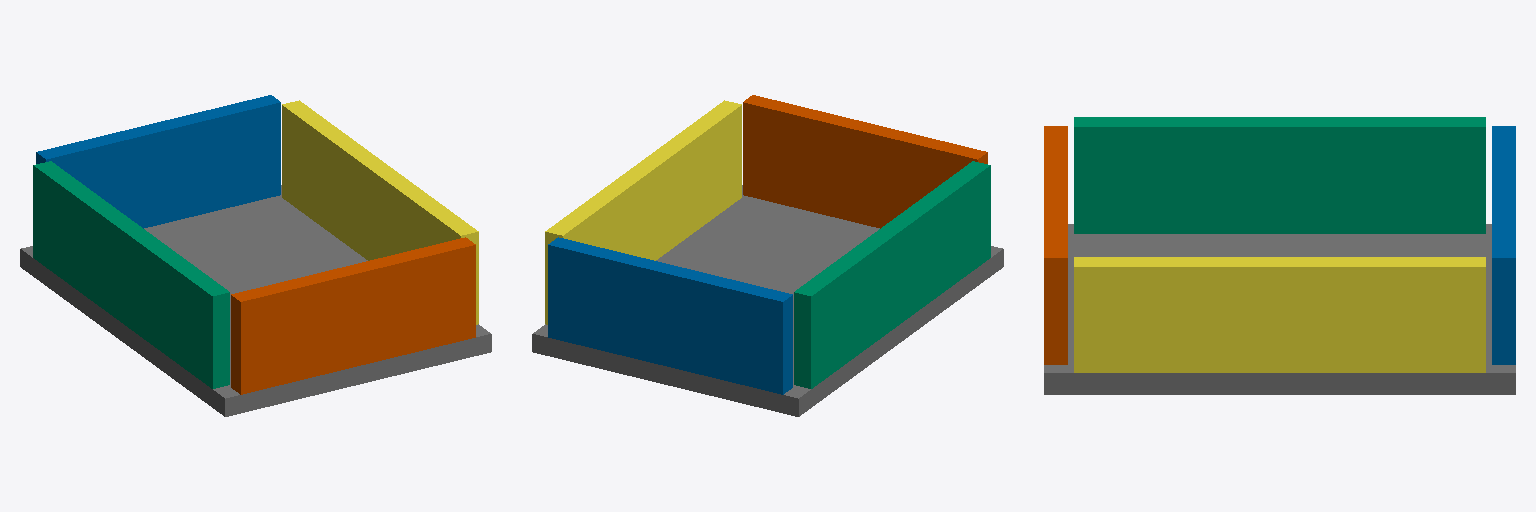
robot.urdf — picking_bin:
<?xml version="1.0"?>
<robot name="picking_bin">
  <!-- We make the base link a dummy link to anchor everything -->
  <link name="bin_base_footprint"/>

  <!-- Floor of the bin -->
  <link name="bin_bottom">
    <inertial>
      <mass value="1.0"/>
      <inertia ixx="0.01" ixy="0.0" ixz="0.0" iyy="0.01" iyz="0.0" izz="0.01"/>
    </inertial>
    <visual>
      <geometry><box size="0.4 0.3 0.02"/></geometry>
      <material name="grey"><color rgba="0.5 0.5 0.5 1"/></material>
    </visual>
    <collision>
      <geometry><box size="0.4 0.3 0.02"/></geometry>
    </collision>
  </link>

  <!-- Left Wall -->
  <link name="wall_left">
    <visual><geometry><box size="0.35 0.02 0.1"/></geometry></visual>
    <collision><geometry><box size="0.35 0.02 0.1"/></geometry></collision>
  </link>

  <!-- Right Wall -->
  <link name="wall_right">
    <visual><geometry><box size="0.35 0.02 0.1"/></geometry></visual>
    <collision><geometry><box size="0.35 0.02 0.1"/></geometry></collision>
  </link>

  <!-- Front Wall -->
  <link name="wall_front">
    <visual><geometry><box size="0.02 0.265 0.1"/></geometry></visual>
    <collision><geometry><box size="0.02 0.265 0.1"/></geometry></collision>
  </link>

  <!-- Back Wall -->
  <link name="wall_back">
    <visual><geometry><box size="0.02 0.265 0.1"/></geometry></visual>
    <collision><geometry><box size="0.02 0.265 0.1"/></geometry></collision>
  </link>

  <!-- JOINTS -->
  <joint name="base_to_bottom" type="fixed">
    <parent link="bin_base_footprint"/>
    <child link="bin_bottom"/>
    <origin xyz="0 0 0.01" rpy="0 0 1.5708"/>
  </joint>

  <joint name="bottom_to_left" type="fixed">
    <parent link="bin_bottom"/>
    <child link="wall_left"/>
    <origin xyz="0 0.14 0.06" rpy="0 0 0"/>
  </joint>

  <joint name="bottom_to_right" type="fixed">
    <parent link="bin_bottom"/>
    <child link="wall_right"/>
    <origin xyz="0 -0.14 0.06" rpy="0 0 0"/>
  </joint>

  <joint name="bottom_to_front" type="fixed">
    <parent link="bin_bottom"/>
    <child link="wall_front"/>
    <origin xyz="0.19 0 0.06" rpy="0 0 0"/>
  </joint>

  <joint name="bottom_to_back" type="fixed">
    <parent link="bin_bottom"/>
    <child link="wall_back"/>
    <origin xyz="-0.19 0 0.06" rpy="0 0 0"/>
  </joint>
  
  <gazebo reference="bin_bottom"><material>Gazebo/Grey</material></gazebo>

  <gazebo>
    <static>true</static>
  </gazebo>
  
</robot>

--- What the picture shows (computed from the rendered views, not written in the file) ---
The picture shows the robot from 3 angles, left to right: view 1: azimuth 30°, elevation 25°; view 2: azimuth 150°, elevation 25°; view 3: azimuth 270°, elevation 25°; orthographic projection.
Model picking_bin with 6 links and 5 joints (5 fixed), rooted at bin_base_footprint, posed all joints at 0.
Links seen in each view (by area): view 1: wall_back, wall_left, bin_bottom, wall_front, wall_right; view 2: wall_front, wall_left, bin_bottom, wall_back, wall_right; view 3: wall_left, wall_right, bin_bottom, wall_front, wall_back.
Link boxes in pixels (<box>): wall_back: <box>231,237,475,394</box>; wall_left: <box>33,161,229,388</box>; bin_bottom: <box>20,185,491,416</box>; wall_front: <box>36,95,280,228</box>; wall_right: <box>282,100,478,324</box>; wall_front: <box>548,237,792,394</box>; wall_left: <box>794,161,990,388</box>; bin_bottom: <box>532,185,1003,416</box>; wall_back: <box>743,95,987,228</box>; wall_right: <box>545,100,741,324</box>; wall_left: <box>1074,117,1485,233</box>; wall_right: <box>1074,257,1485,372</box>; bin_bottom: <box>1044,224,1515,394</box>; wall_front: <box>1492,126,1515,364</box>; wall_back: <box>1044,126,1067,364</box>.
Size in the robot's own frame: 0.3 by 0.4 by 0.12 metres.
Geometry: primitives only (box / cylinder / sphere), no mesh files.
